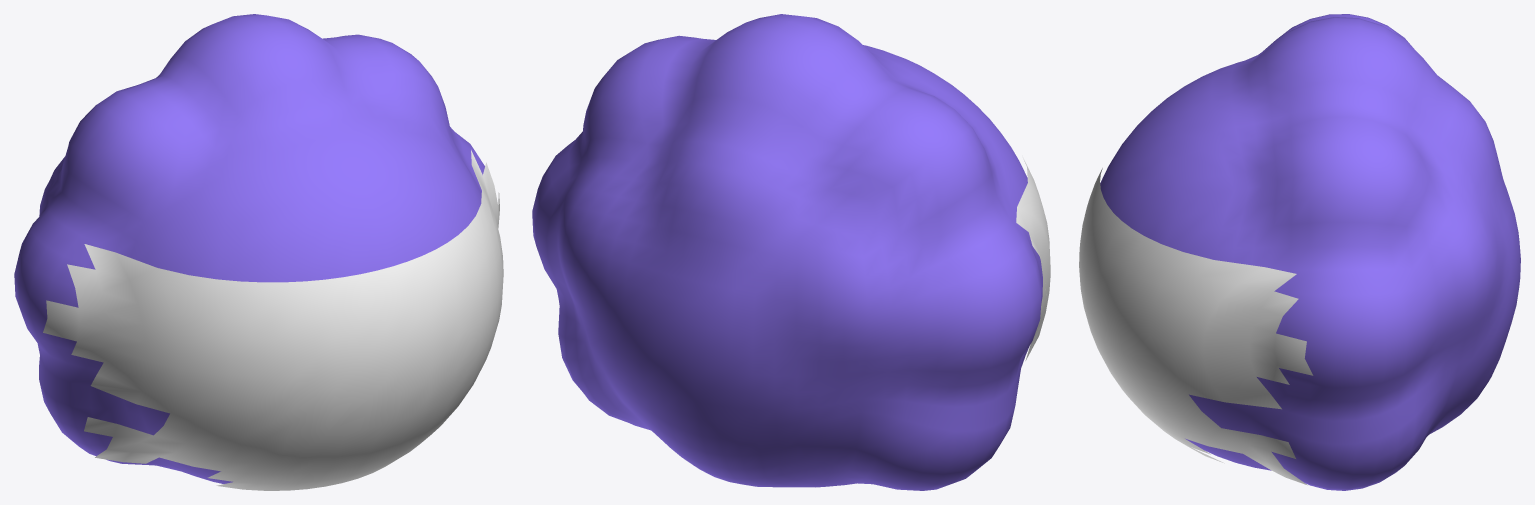
The model's file is head-cloud.glb.
The picture shows the model from 3 angles, left to right: view 1: azimuth 30°, elevation 25°; view 2: azimuth 150°, elevation 25°; view 3: azimuth 270°, elevation 25°; orthographic projection. The views are drawn at different scales.
Visible parts, largest first — view 1: head-cloud-mesh, face; view 2: head-cloud-mesh, face; view 3: head-cloud-mesh, face.
Boxes of the visible parts, x1,y1,x2,y2 form: head-cloud-mesh: [14, 14, 484, 483]; face: [43, 150, 503, 490]; head-cloud-mesh: [532, 14, 1042, 490]; face: [1016, 158, 1050, 360]; head-cloud-mesh: [1100, 14, 1520, 490]; face: [1079, 168, 1313, 485].
Size of the model in its own units: 1.33 by 1.2 by 1.13.
